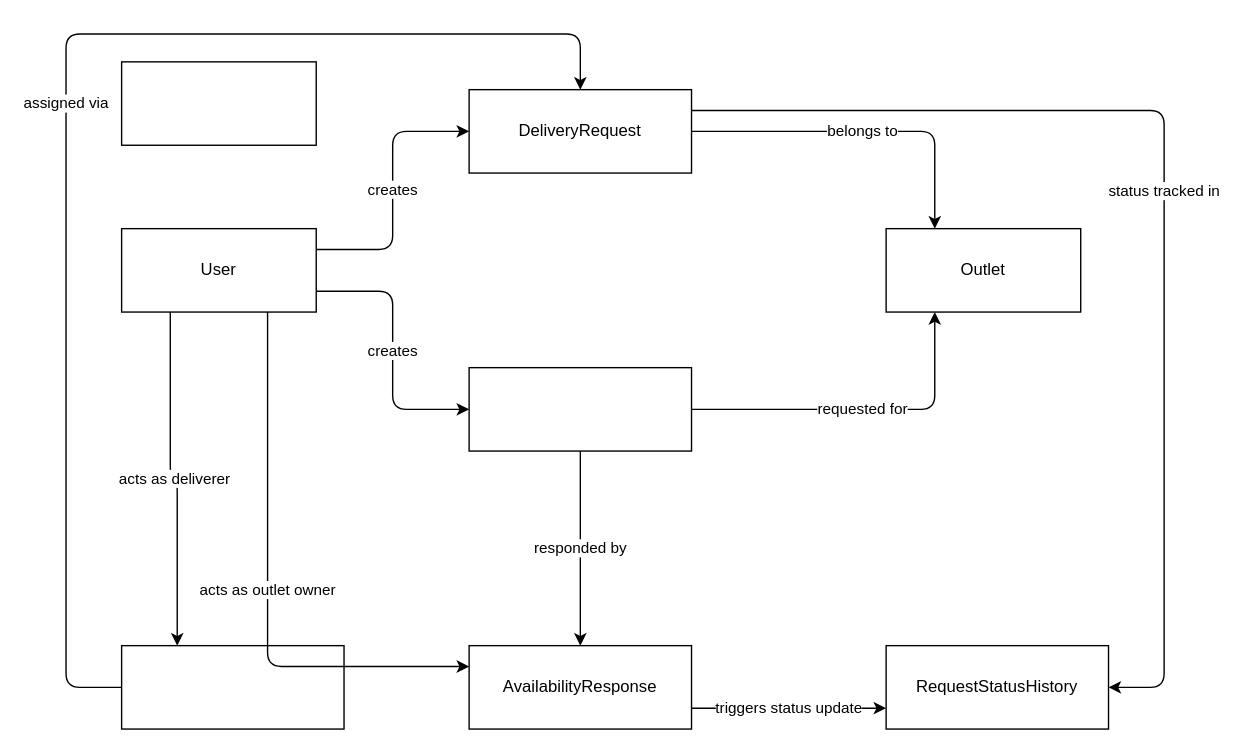
Image size: 1244x753. Some labels were removed from this diagram. Each missing label, with the centre of its shape:
AvailabilityRequest: point (580, 408)
FilterCriteria: point (218, 102)
RequestAssignment: point (232, 686)
